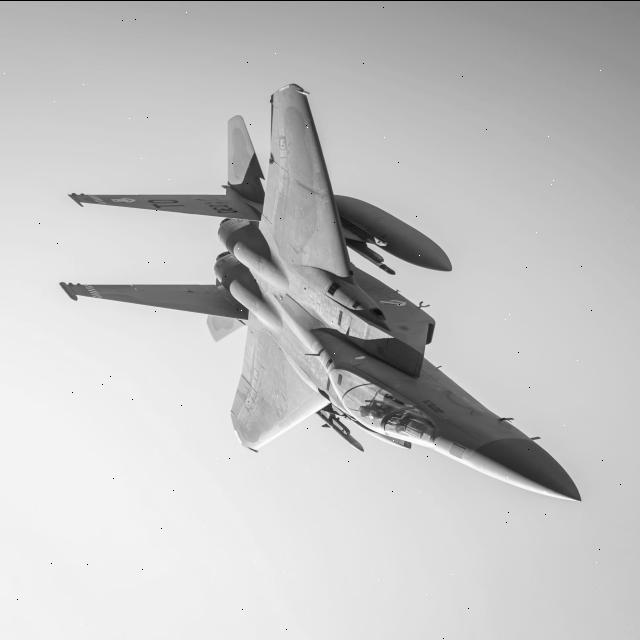F15: (26, 79, 604, 552)
